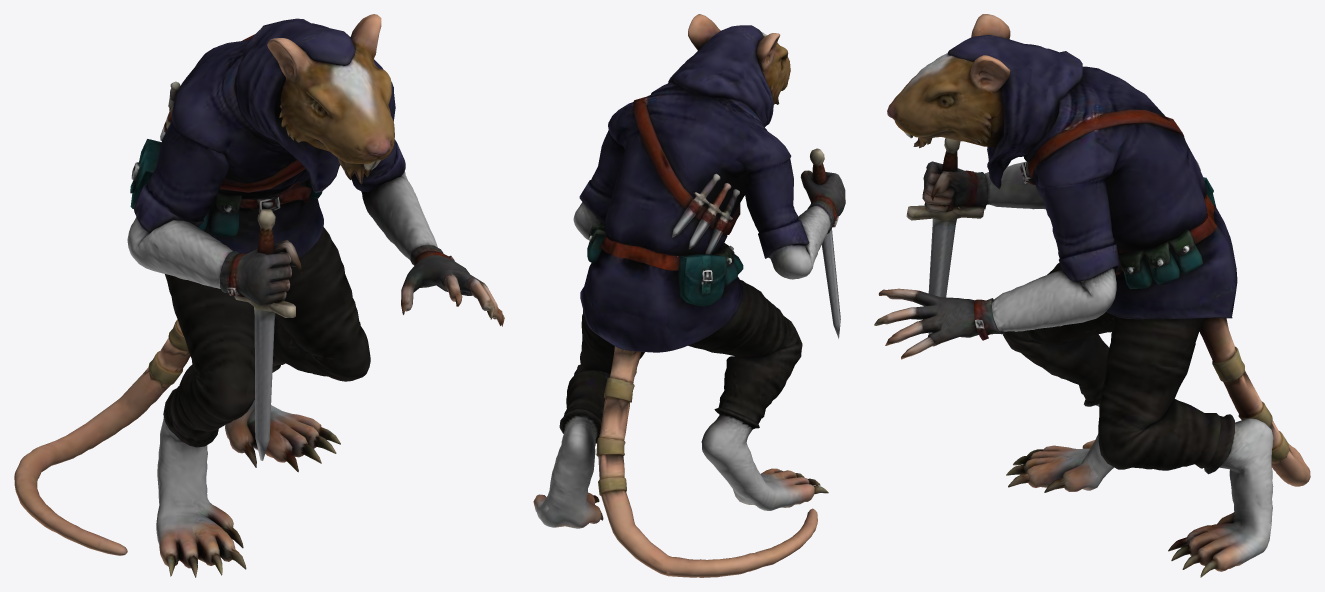
The model's file is MZ4250 - Ratfolk Rogue_FawnVaregated.glb.
The picture shows the model from 3 angles, left to right: view 1: azimuth 30°, elevation 25°; view 2: azimuth 150°, elevation 25°; view 3: azimuth 270°, elevation 25°; orthographic projection. The views are drawn at different scales.
Visible parts, largest first — view 1: Ratfolk.001; view 2: Ratfolk.001; view 3: Ratfolk.001.
Boxes of the visible parts, x1,y1,x2,y2 form: Ratfolk.001: [14, 14, 504, 577]; Ratfolk.001: [533, 14, 845, 577]; Ratfolk.001: [874, 14, 1310, 577].
Bounding box in the file's own units: 0.3783 × 0.6074 × 0.4927.
1 material, 1 textured.
